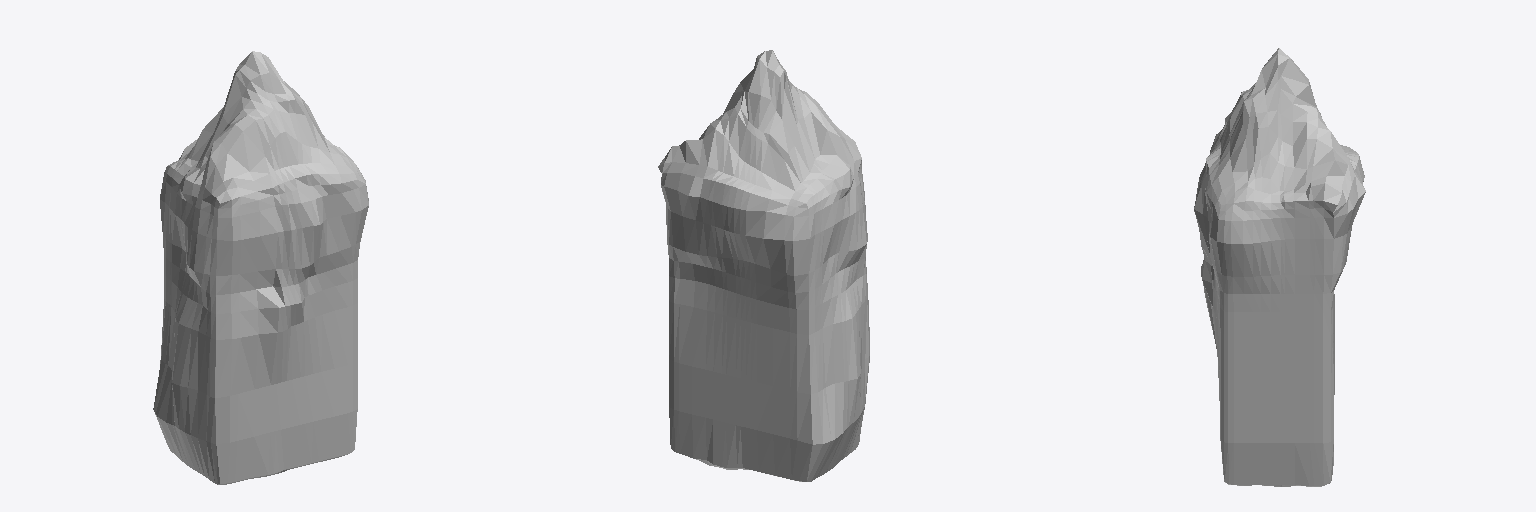
The model's file is env_level1_Canyon_Rock12.obj.
3 views of the same model, side by side, from view 1: azimuth 30°, elevation 25°; view 2: azimuth 150°, elevation 25°; view 3: azimuth 270°, elevation 25° (orthographic).
Visible parts, largest first — view 1: rockwall_b09; view 2: rockwall_b09; view 3: rockwall_b09.
Boxes of the visible parts, <box> form: rockwall_b09: <box>153,51,368,484</box>; rockwall_b09: <box>658,50,869,481</box>; rockwall_b09: <box>1194,48,1365,486</box>.
Bounding box in the file's own units: 4534 × 10309 × 3903.